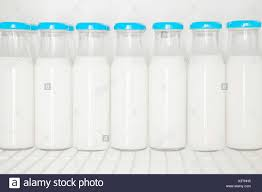milk: (72, 16, 110, 156), (151, 18, 186, 156), (227, 14, 262, 152), (189, 15, 224, 151), (2, 18, 34, 161), (36, 12, 68, 151), (114, 21, 147, 155)
